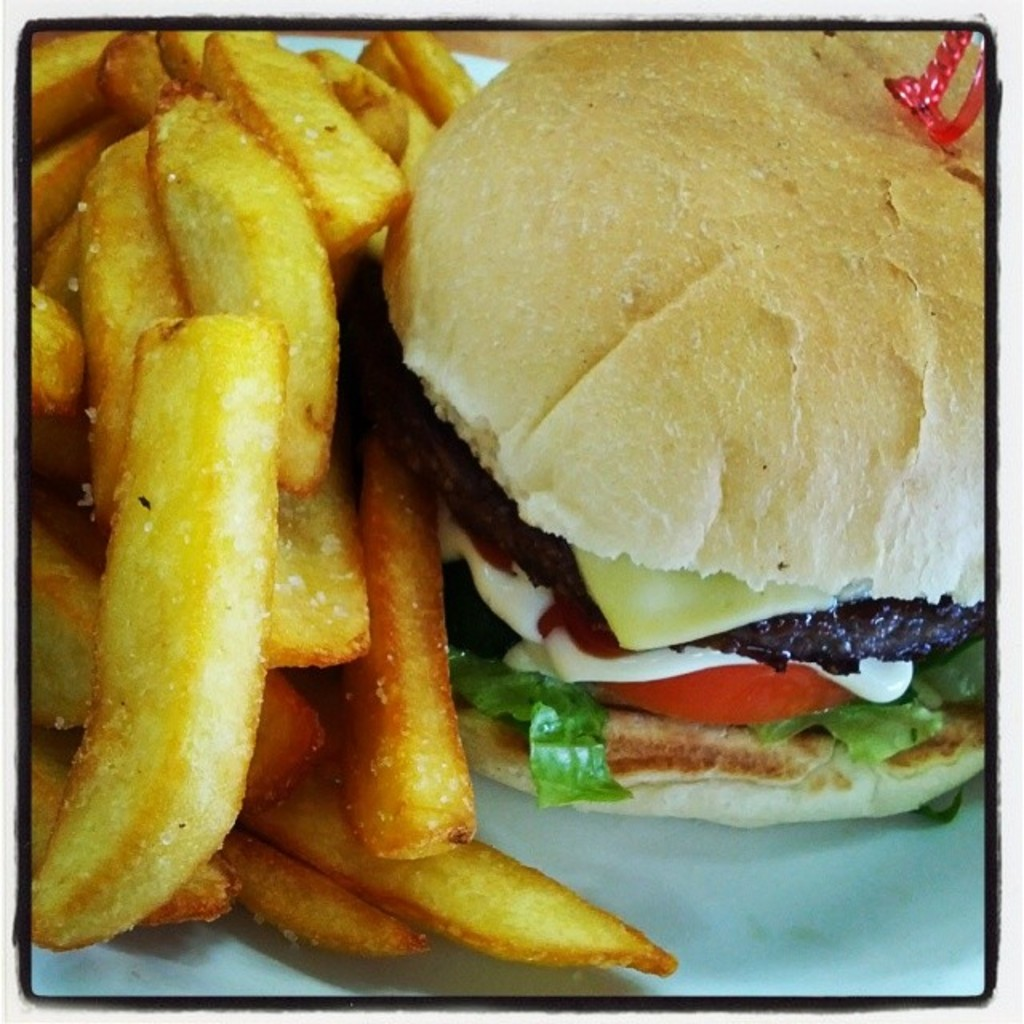French fries: (12, 0, 532, 1024)
